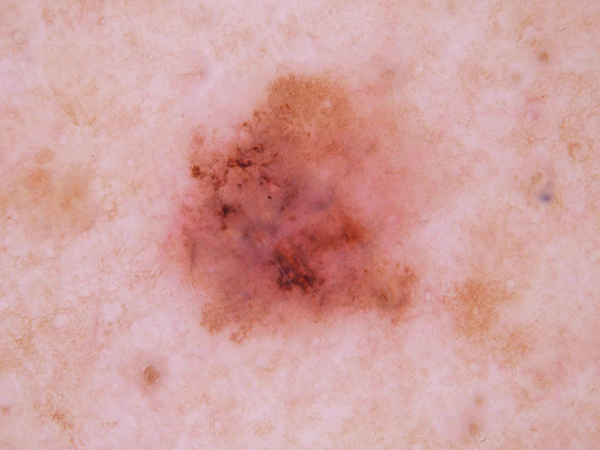Detected Lesion: (169, 68, 427, 344)
